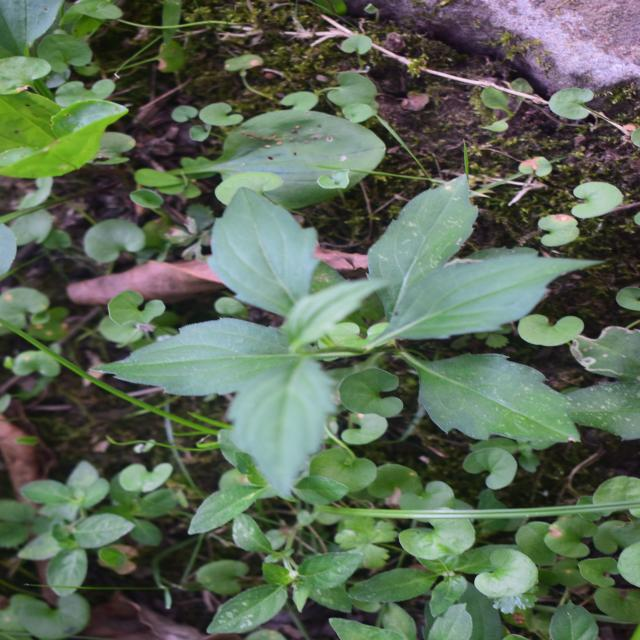Indian aster: (170, 138, 439, 551)
